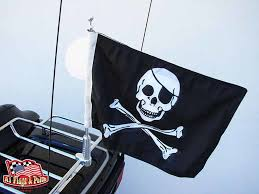Jolly Roger Flag: (71, 28, 248, 177)
